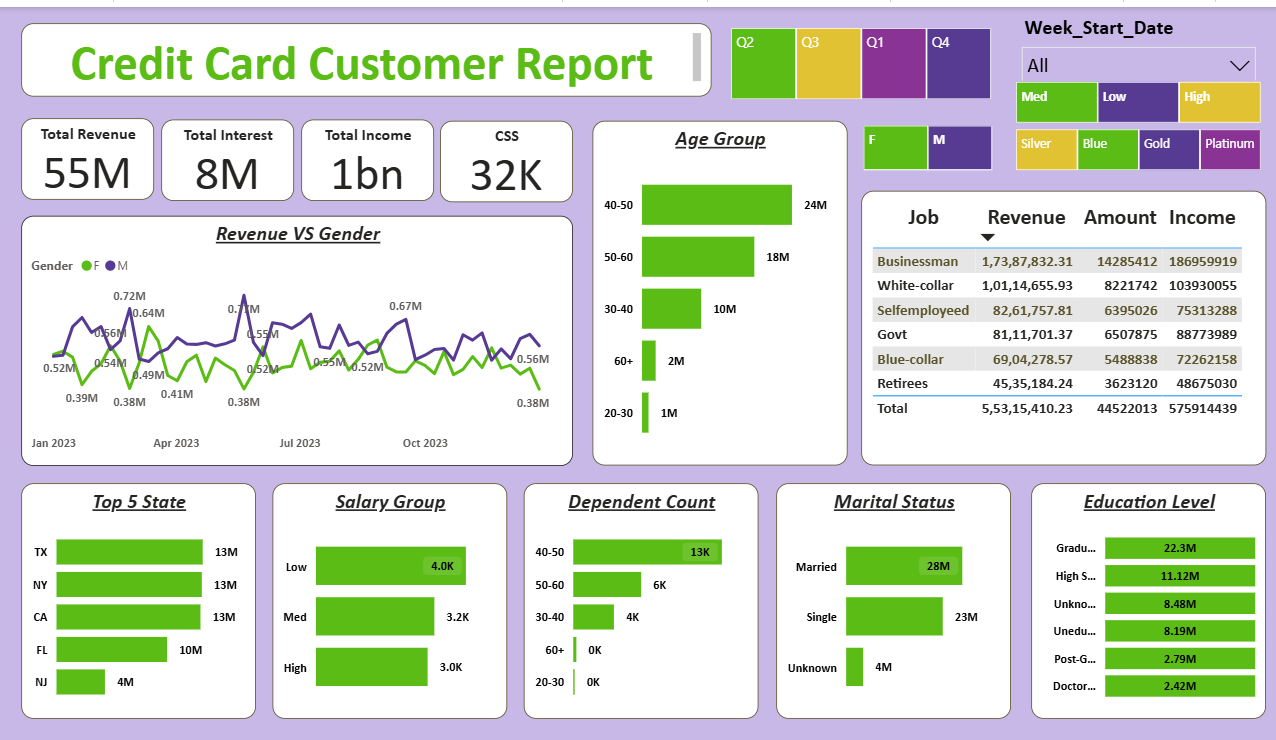

This screenshot's page, from the dashboard's own definition file:
{"tool":"powerbi","page":{"name":"Customer","canvas":[1280,720],"ordinal":1},"visuals":[{"type":"textbox","box":[30.7,16,677.3,72.4],"z":0},{"type":"card","title":"Total Revenue","fields":{"Values":["Sum(cc_detail.Revenue)"]},"box":[30.7,109.2,130,79.8],"z":1000},{"type":"card","title":"Total Interest","fields":{"Values":["Sum(cc_detail.Interest_Earned)"]},"box":[168.1,110.4,130.1,79.8],"z":2000},{"type":"card","title":"Total Income","fields":{"Values":["Sum(cust_detail.Income)"]},"box":[305.5,110.4,130.1,79.8],"z":3000},{"type":"card","title":"CSS","fields":{"Values":["Sum(cust_detail.Cust_Satisfaction_Score)"]},"box":[441.7,111.7,130.1,79.8],"z":4000},{"type":"treemap","fields":{"Group":["cc_detail.Qtr"],"Values":["CountNonNull(cc_detail.Client_Num)"]},"box":[722.7,16,265,79.8],"z":5000},{"type":"slicer","fields":{"Values":["cc_detail.Week_Start_Date"]},"box":[1002.5,2.5,250.3,69.9],"z":6000},{"type":"treemap","fields":{"Values":["Avg(cc_detail.Client_Num)"],"Group":["cust_detail.Income_group"]},"box":[1002.3,68.6,250,50],"z":7000},{"type":"treemap","fields":{"Values":["Avg(cc_detail.Client_Num)"],"Group":["cc_detail.Card_Category"]},"box":[1002.3,115.1,250,50],"z":8000},{"type":"lineChart","title":"Revenue VS Gender","fields":{"Y":["Sum(cc_detail.Revenue)"],"Series":["cust_detail.Gender"],"Category":["cc_detail.Week_Start_Date.Variation.Date Hierarchy.Year","cc_detail.Week_Start_Date.Variation.Date Hierarchy.Month","cc_detail.Week_Start_Date.Variation.Date Hierarchy.Day"]},"box":[30.2,204.7,541.9,245.3],"z":9000},{"type":"barChart","title":"Top 5 State","fields":{"Category":["cust_detail.State_cd"],"Y":["Sum(cc_detail.Revenue)"]},"box":[30.2,467.4,230.2,231.4],"z":10000},{"type":"barChart","title":"Salary Group","fields":{"Y":["CountNonNull(cust_detail.Client_Num)"],"Category":["cust_detail.Income_group"]},"box":[276.7,467.4,230.2,231.4],"z":11000},{"type":"barChart","title":"Dependent Count","fields":{"Y":["Sum(cust_detail.Dependent_Count)"],"Category":["cust_detail.Age_group"]},"box":[524.4,467.4,230.2,231.4],"z":12000},{"type":"barChart","title":"Marital Status","fields":{"Category":["cust_detail.Marital_Status"],"Y":["Sum(cc_detail.Revenue)"]},"box":[772.1,467.4,230.2,231.4],"z":13000},{"type":"hundredPercentStackedBarChart","title":"Education Level","fields":{"Y":["Sum(cc_detail.Revenue)"],"Category":["cust_detail.Education_Level"]},"box":[1022.1,467.4,230.2,231.4],"z":14000},{"type":"barChart","title":"Age Group","fields":{"Y":["Sum(cc_detail.Revenue)"],"Category":["cust_detail.Age_group"]},"box":[591.9,111.6,250,338.4],"z":15000},{"type":"treemap","fields":{"Values":["Avg(cc_detail.Client_Num)"],"Group":["cust_detail.Gender"]},"box":[852.3,111.6,136,53.5],"z":16000},{"type":"tableEx","fields":{"Values":["cust_detail.Customer_Job","Sum(cc_detail.Revenue)","Sum(cc_detail.Total_Trans_Amt)","Sum(cust_detail.Income)"]},"box":[854.7,180.2,397.7,269.8],"z":17000}]}

Visuals, with their boxes in screenshot pixels (x1, y1, x2, y2):
textbox: BBox(18, 20, 708, 93)
"Total Revenue" card: BBox(18, 115, 151, 196)
"Total Interest" card: BBox(158, 116, 291, 197)
"Total Income" card: BBox(298, 116, 431, 197)
"CSS" card: BBox(437, 117, 570, 199)
treemap - cc_detail.Qtr x CountNonNull(cc_detail.Client_Num): BBox(723, 20, 993, 101)
slicer - cc_detail.Week_Start_Date: BBox(1008, 6, 1264, 77)
treemap - Avg(cc_detail.Client_Num) x cust_detail.Income_group: BBox(1008, 73, 1263, 124)
treemap - Avg(cc_detail.Client_Num) x cc_detail.Card_Category: BBox(1008, 121, 1263, 172)
"Revenue VS Gender" lineChart: BBox(17, 212, 570, 462)
"Top 5 State" barChart: BBox(17, 480, 252, 716)
"Salary Group" barChart: BBox(269, 480, 503, 716)
"Dependent Count" barChart: BBox(521, 480, 756, 716)
"Marital Status" barChart: BBox(774, 480, 1008, 716)
"Education Level" hundredPercentStackedBarChart: BBox(1028, 480, 1263, 716)
"Age Group" barChart: BBox(590, 117, 845, 462)
treemap - Avg(cc_detail.Client_Num) x cust_detail.Gender: BBox(855, 117, 994, 172)
tableEx - cust_detail.Customer_Job x Sum(cc_detail.Revenue): BBox(858, 187, 1263, 462)
